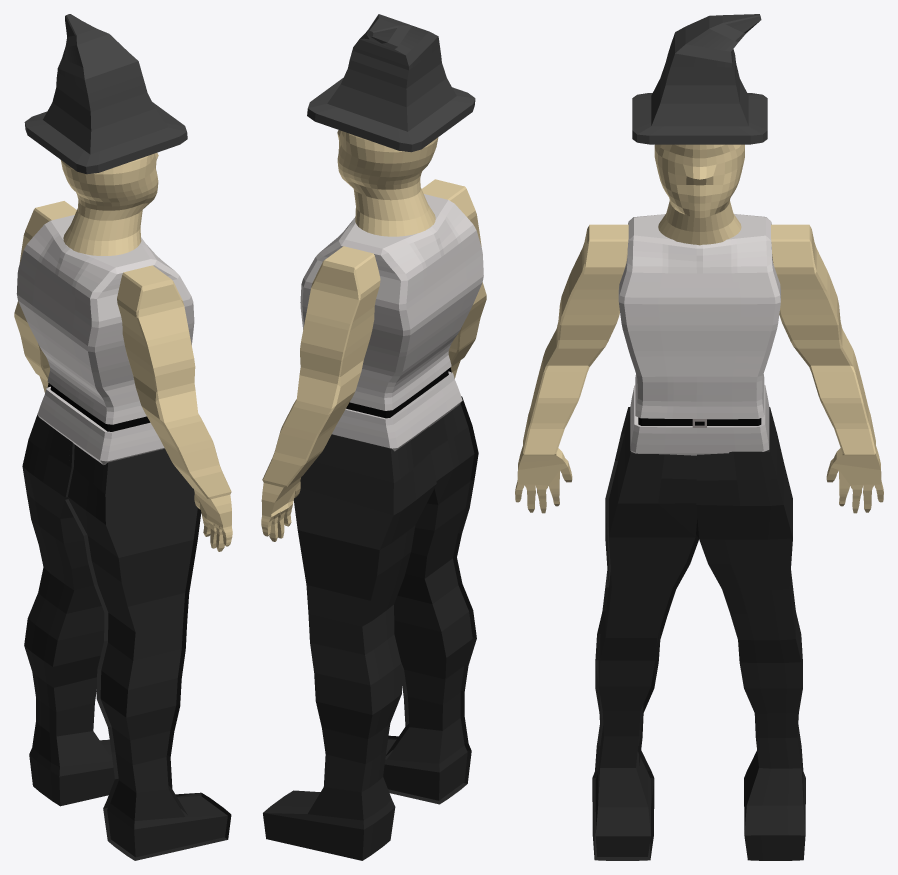
The model's file is PlayerModel.fbx.
The picture shows the model from 3 angles, left to right: view 1: azimuth 30°, elevation 25°; view 2: azimuth 150°, elevation 25°; view 3: azimuth 270°, elevation 25°; orthographic projection. The views are drawn at different scales.
Parts seen in each view (by area): view 1: CharArms_l; view 2: CharArms_l; view 3: CharArms_l.
Boxes of the visible parts, x1=… form: CharArms_l: x1=14, y1=14, x2=232, y2=860; CharArms_l: x1=261, y1=14, x2=486, y2=860; CharArms_l: x1=515, y1=14, x2=883, y2=860.
Bounding box in the file's own units: 64.82 × 380 × 157.
